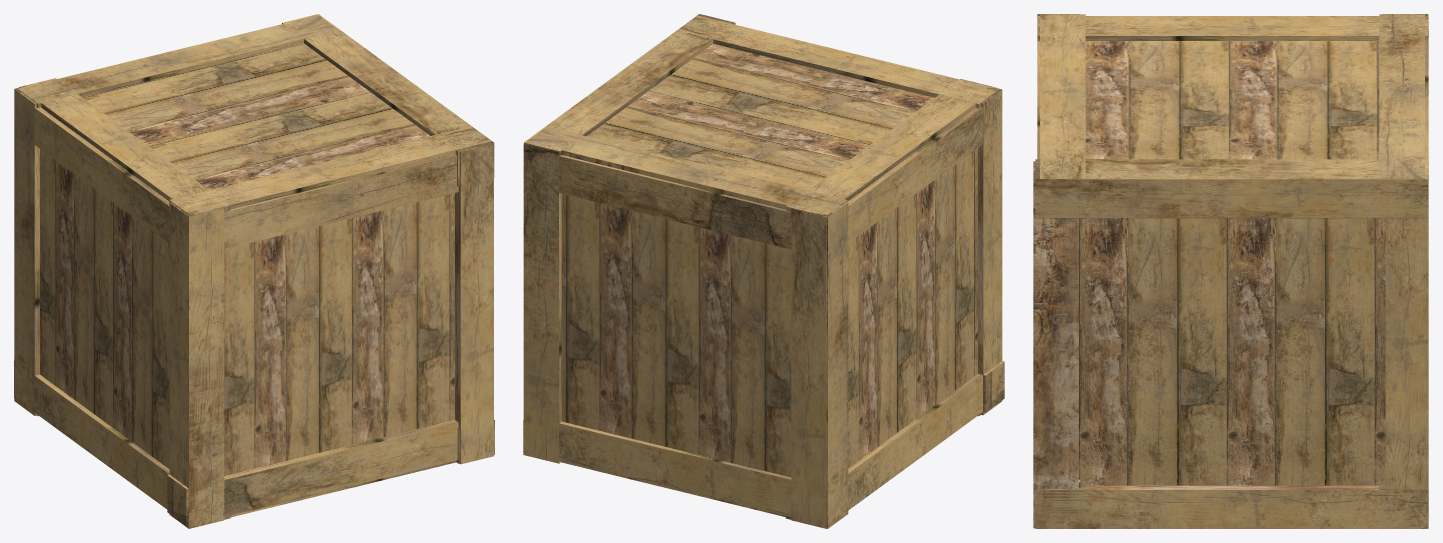
Rendered from WoodBox.fbx.
3 renders of one model, left to right at view 1: azimuth 30°, elevation 25°; view 2: azimuth 150°, elevation 25°; view 3: azimuth 270°, elevation 25°, orthographic. The views are drawn at different scales.
Parts seen in each view (by area): view 1: Main, BaseFront, BaseUp, BaseLeft, BaseRight, BaseBottom; view 2: Main, BaseBack, BaseUp, BaseLeft, BaseFront, BaseBottom; view 3: Main, BaseUp, BaseBottom, BaseRight, BaseBack.
Part boxes in pixels (bbox=[...]): Main: bbox=[40, 43, 454, 475]; BaseFront: bbox=[167, 154, 458, 528]; BaseUp: bbox=[17, 14, 494, 215]; BaseLeft: bbox=[14, 88, 169, 509]; BaseRight: bbox=[455, 143, 493, 464]; BaseBottom: bbox=[36, 414, 494, 519]; Main: bbox=[561, 44, 977, 477]; BaseBack: bbox=[523, 143, 826, 528]; BaseUp: bbox=[524, 14, 999, 215]; BaseLeft: bbox=[823, 107, 982, 528]; BaseFront: bbox=[978, 88, 1004, 415]; BaseBottom: bbox=[523, 413, 981, 519]; Main: bbox=[1079, 41, 1385, 485]; BaseUp: bbox=[1035, 14, 1427, 218]; BaseBottom: bbox=[1035, 485, 1427, 528]; BaseRight: bbox=[1033, 161, 1078, 528]; BaseBack: bbox=[1385, 14, 1428, 528].
Bounding box in the file's own units: 211 × 205 × 210.
2 materials, 2 textured.
